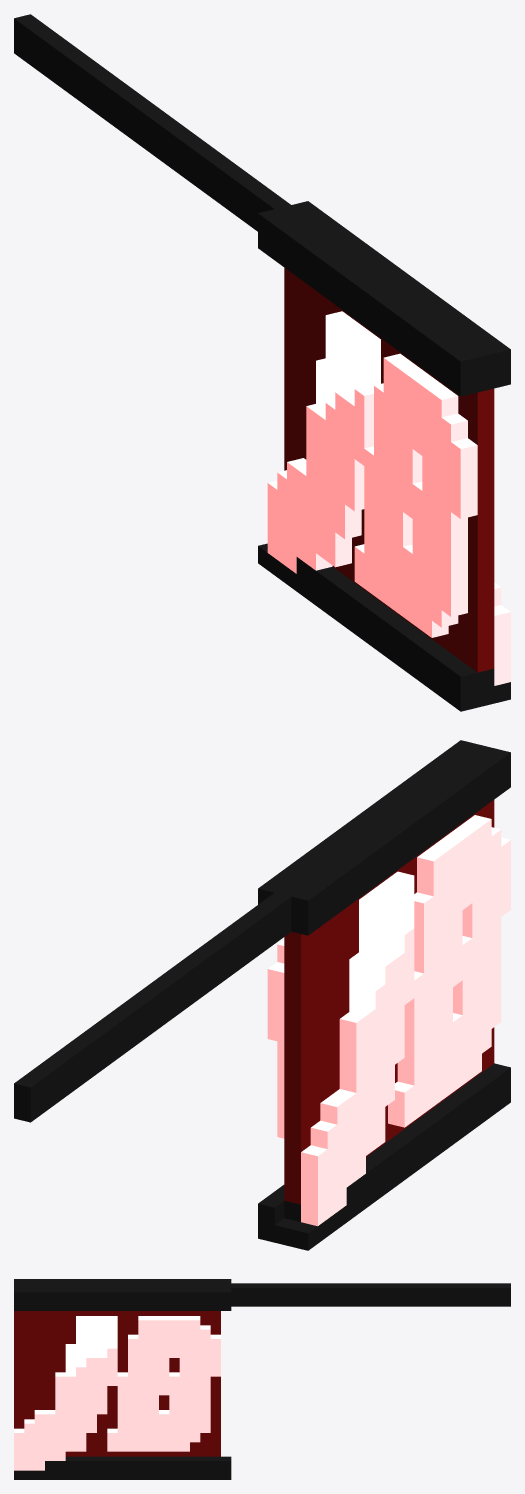
File: jbSign.glb
The picture shows the model from 3 angles, top to bottom: view 1: azimuth 30°, elevation 25°; view 2: azimuth 150°, elevation 25°; view 3: azimuth 270°, elevation 25°; orthographic projection. The views are drawn at different scales.
Parts seen in each view (by area): view 1: ObjObject; view 2: ObjObject; view 3: ObjObject.
Part boxes in pixels (x1,y1,x2,y2): ObjObject: [14, 14, 510, 711]; ObjObject: [14, 740, 510, 1250]; ObjObject: [14, 1279, 510, 1479].
Size of the model in its own units: 0.3 by 2 by 4.8.
Materials: 3 (1 with a texture image).
